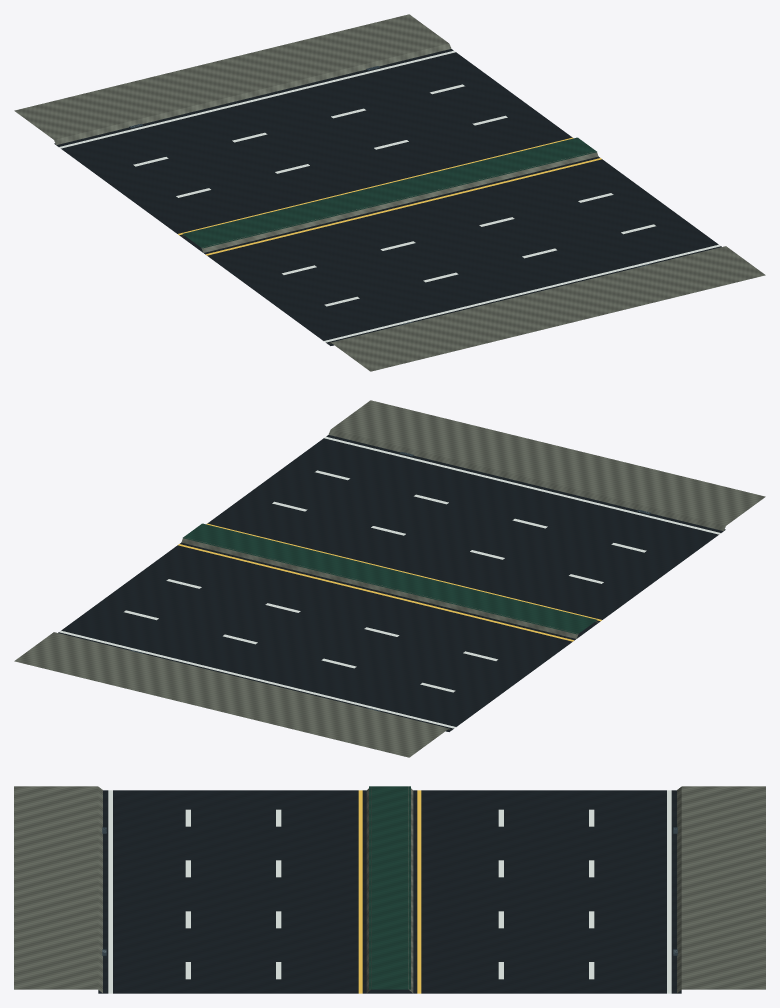
File: road_arterial_6lane_16m_LOD0.glb
The picture shows the model from 3 angles, top to bottom: view 1: azimuth 30°, elevation 25°; view 2: azimuth 150°, elevation 25°; view 3: azimuth 270°, elevation 25°; orthographic projection. The views are drawn at different scales.
Visible parts, largest first — view 1: road_arterial_6lane_16m__surface, road_arterial_6lane_16m__markings; view 2: road_arterial_6lane_16m__surface, road_arterial_6lane_16m__markings; view 3: road_arterial_6lane_16m__surface, road_arterial_6lane_16m__markings.
Part boxes in pixels (left/top/right/bottom): road_arterial_6lane_16m__surface: left=14, top=14, right=765, bottom=371; road_arterial_6lane_16m__markings: left=59, top=50, right=720, bottom=342; road_arterial_6lane_16m__surface: left=14, top=400, right=765, bottom=757; road_arterial_6lane_16m__markings: left=59, top=436, right=720, bottom=728; road_arterial_6lane_16m__surface: left=14, top=786, right=765, bottom=993; road_arterial_6lane_16m__markings: left=108, top=790, right=671, bottom=993.
Bounding box in the file's own units: 16 × 0.15 × 25.
8 materials, 4 textured.
